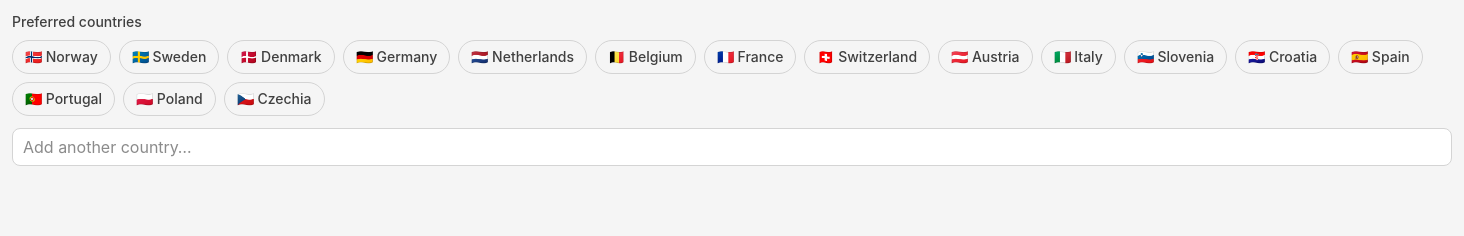
Test: ChipMultiSelect country search › keeps the quick-pick chips one tap away while searching
The width and height of the screenshot is (1464, 236).
Type "luxem" into the search field with test id "country-search".
click(732, 147); type("luxem")  # box [12,128,1452,166]
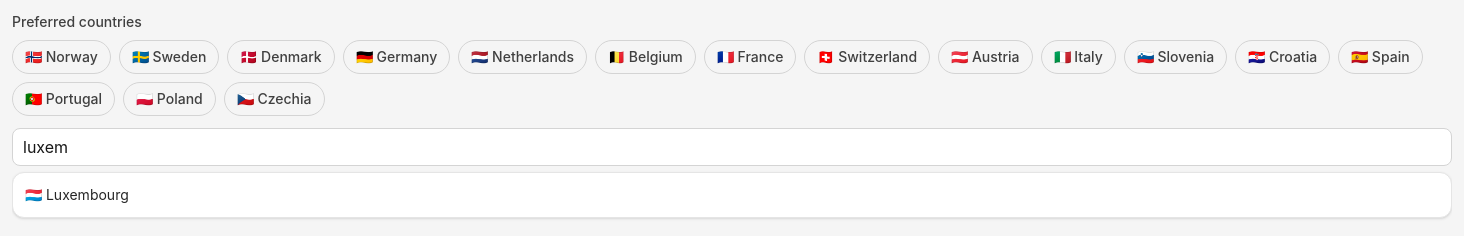
Click the button with test id "country-chip-IT".
click(1078, 57)  # box [1040,40,1116,74]
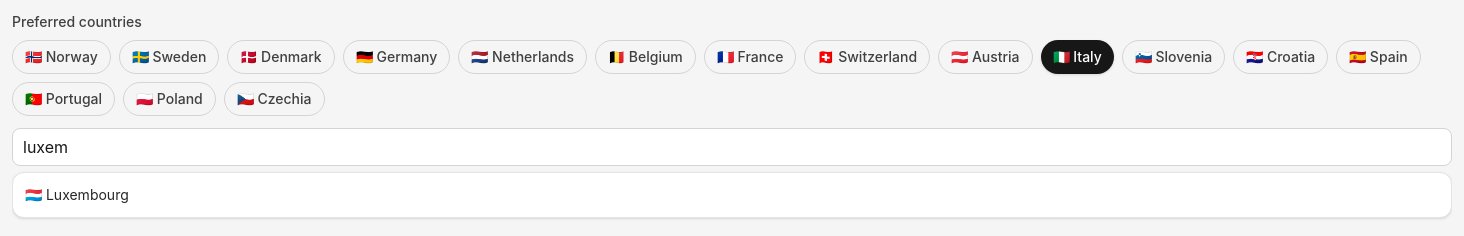
Now the button with test id "country-chip-IT" is pressed, box [1040,40,1114,74]
